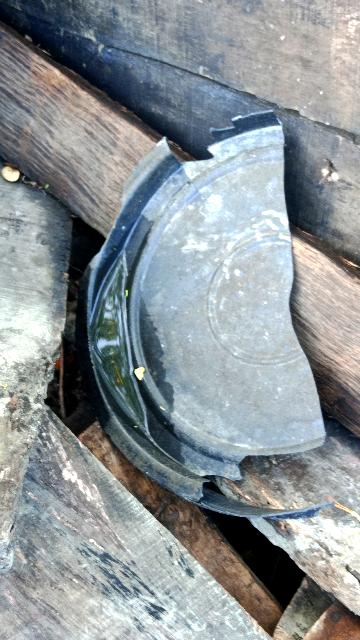hardplastic: (99, 111, 308, 525)
